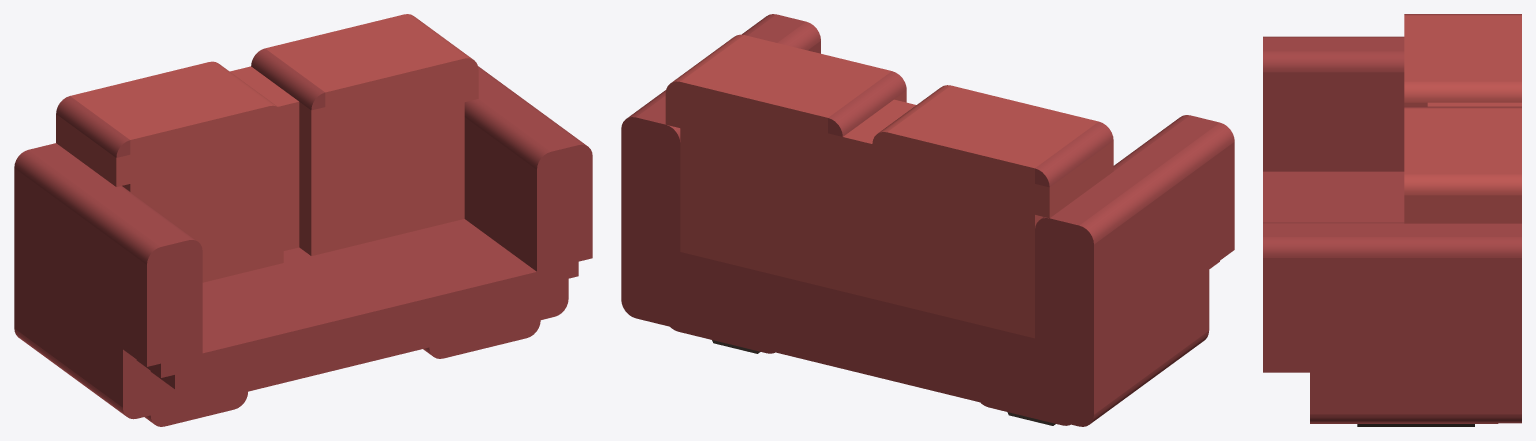
Rendered from couch.glb.
3 views of the same model, side by side, from view 1: azimuth 30°, elevation 25°; view 2: azimuth 150°, elevation 25°; view 3: azimuth 270°, elevation 25° (orthographic). The views are drawn at different scales.
Parts seen in each view (by area): view 1: generated(Clone); view 2: generated(Clone); view 3: generated(Clone).
Part boxes in pixels (x1,y1,x2,y2): generated(Clone): [14, 14, 592, 426]; generated(Clone): [621, 14, 1234, 426]; generated(Clone): [1263, 14, 1521, 426].
Bounding box in the file's own units: 16 × 9 × 8.25.
1 material, 1 textured.
